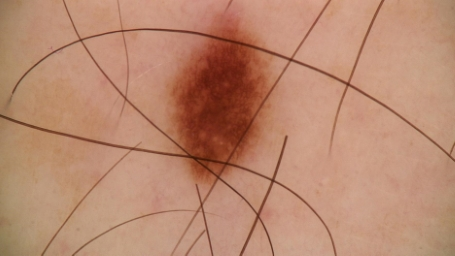melanoma: (174, 36, 267, 179)
